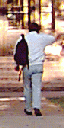person: (9, 18, 53, 112)
